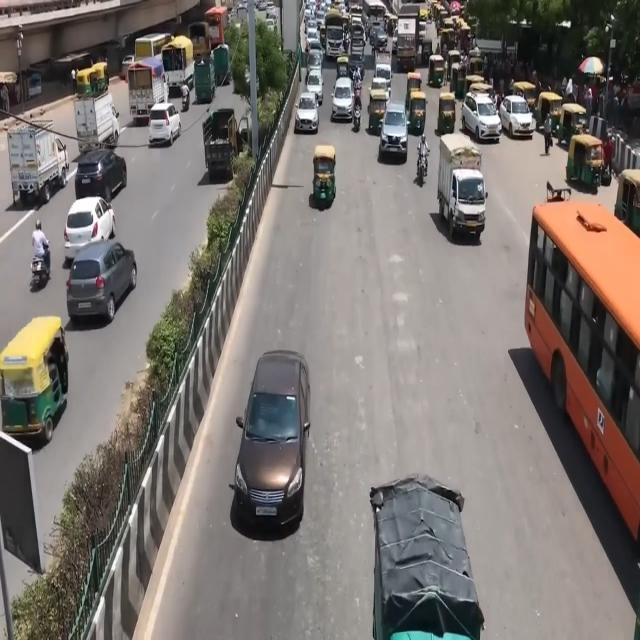auto: (1, 315, 69, 440), (437, 130, 484, 239), (566, 132, 604, 190), (312, 144, 337, 206), (558, 102, 588, 150), (536, 90, 563, 136), (367, 84, 389, 134), (512, 81, 538, 115), (408, 90, 427, 136), (438, 91, 457, 137), (405, 72, 422, 116), (463, 72, 486, 103), (446, 49, 462, 89), (428, 53, 446, 88), (439, 22, 457, 54), (454, 21, 472, 50), (468, 48, 483, 80), (336, 54, 350, 80)
bike-auto: (30, 241, 51, 286), (416, 138, 429, 180), (543, 110, 553, 154), (352, 104, 360, 130)
